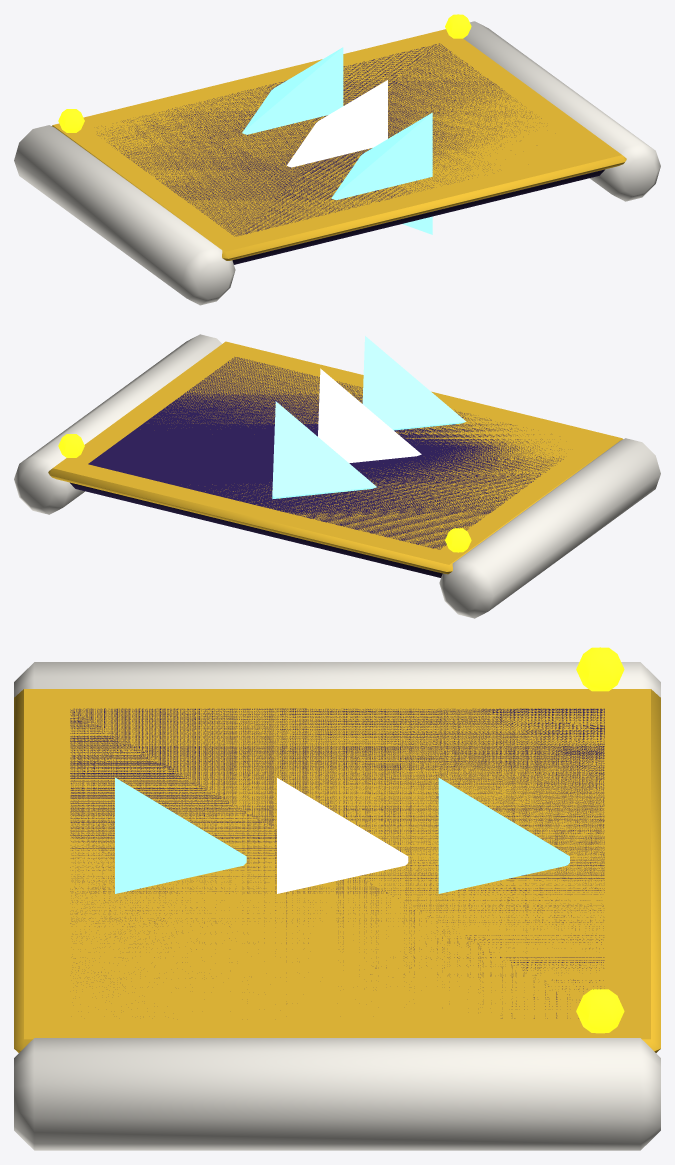
Rendered from Track_Booster.fbx.
3 views of the same model, one above another, from view 1: azimuth 30°, elevation 25°; view 2: azimuth 150°, elevation 25°; view 3: azimuth 270°, elevation 25° (orthographic). The views are drawn at different scales.
Parts seen in each view (by area): view 1: Track_Booster; view 2: Track_Booster; view 3: Track_Booster.
Boxes of the visible parts, left/top/right/bottom form: Track_Booster: left=14, top=14, right=660, bottom=305; Track_Booster: left=14, top=334, right=660, bottom=618; Track_Booster: left=14, top=647, right=660, bottom=1150.
Size of the model in its own units: 4.96 by 1.21 by 3.2.
